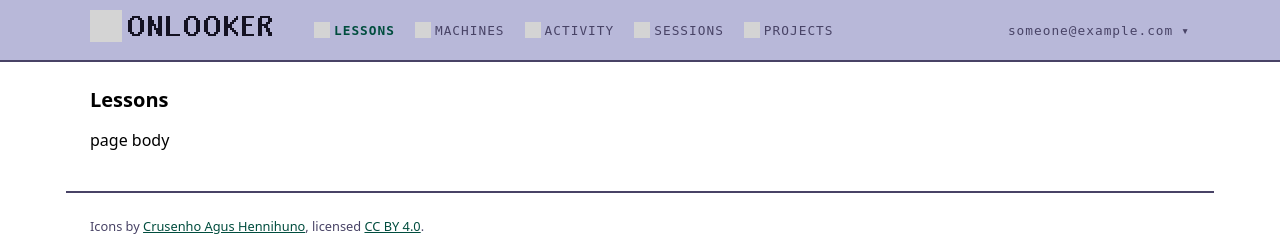
Scenario: the account menu › closes on Escape and hands focus back to the button
Click the button "someone@example.com ▾": (1099, 30) top-left (1008, 22), bottom-right (1190, 38)
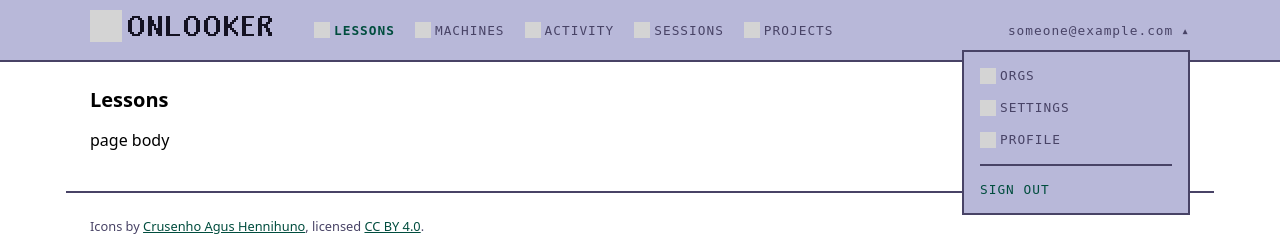
Press Escape
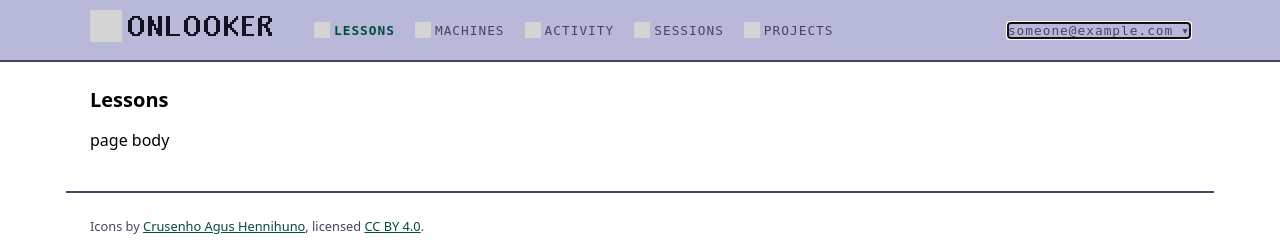
Result: the element with id "app-account-menu" is gone
